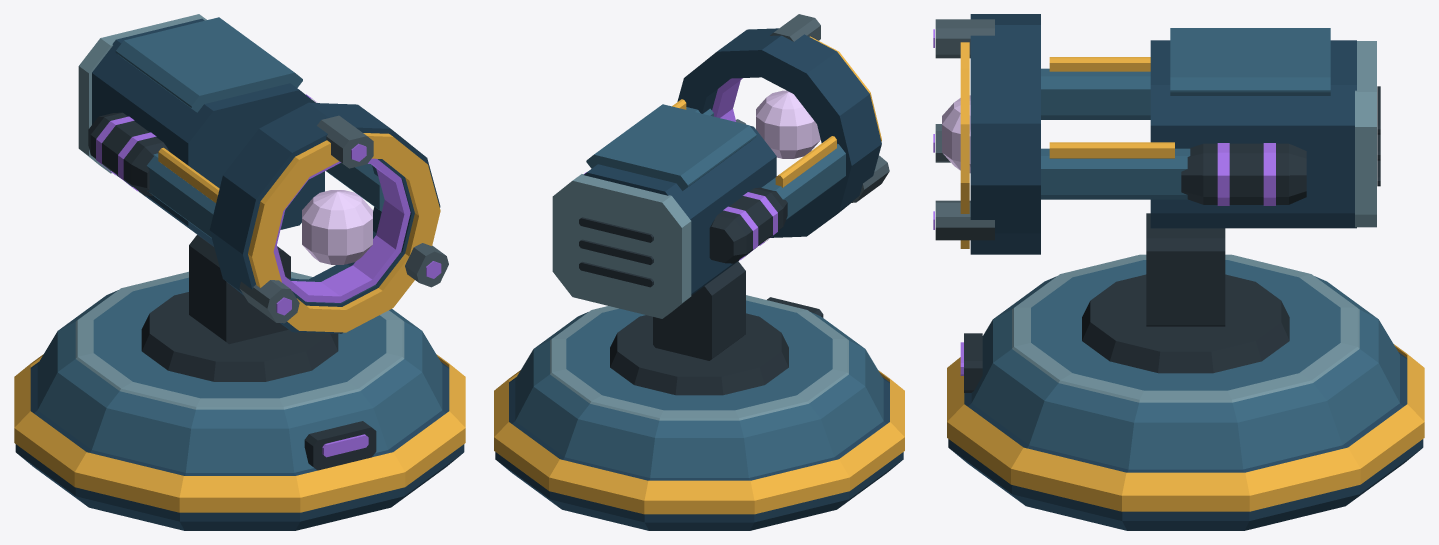
Rendered from PlasmaLevel1.obj.
3 renders of one model, left to right at view 1: azimuth 30°, elevation 25°; view 2: azimuth 150°, elevation 25°; view 3: azimuth 270°, elevation 25°, orthographic. The views are drawn at different scales.
Visible parts, largest first — view 1: UpperPlinth, GoldBelt, Chamber, LaunchRingArmor, LaunchRingGoldFace, ChamberTop, Foundation, Turntable, TopRim, InnerChargeCoil, Support, ChargedOrb (+10 smaller); view 2: UpperPlinth, GoldBelt, LaunchRingArmor, RearCap, Turntable, Foundation, ChamberTop, Chamber, TopRim, Support, Capacitor-1, ChargedOrb (+8 smaller); view 3: UpperPlinth, GoldBelt, Chamber, LaunchRingArmor, Turntable, ChamberTop, Foundation, TopRim, Support, EmitterArm1, Capacitor1, EmitterArm-1 (+10 smaller).
Boxes of the visible parts, bbox=[...] form: UpperPlinth: bbox=[37, 277, 442, 472]; GoldBelt: bbox=[14, 354, 465, 512]; Chamber: bbox=[92, 18, 324, 246]; LaunchRingArmor: bbox=[209, 102, 440, 333]; LaunchRingGoldFace: bbox=[248, 133, 440, 332]; ChamberTop: bbox=[115, 17, 302, 112]; Foundation: bbox=[15, 362, 464, 530]; Turntable: bbox=[141, 292, 338, 381]; TopRim: bbox=[75, 271, 404, 409]; InnerChargeCoil: bbox=[273, 158, 410, 302]; Support: bbox=[189, 234, 290, 344]; ChargedOrb: bbox=[302, 190, 372, 264]; UpperPlinth: bbox=[515, 300, 883, 477]; GoldBelt: bbox=[494, 370, 904, 514]; LaunchRingArmor: bbox=[677, 28, 881, 237]; RearCap: bbox=[552, 174, 691, 318]; Turntable: bbox=[610, 313, 788, 395]; Foundation: bbox=[495, 377, 903, 530]; ChamberTop: bbox=[586, 104, 756, 190]; Chamber: bbox=[584, 126, 776, 295]; TopRim: bbox=[550, 295, 848, 420]; Support: bbox=[653, 261, 745, 360]; Capacitor-1: bbox=[709, 187, 787, 263]; ChargedOrb: bbox=[756, 90, 820, 158]; UpperPlinth: bbox=[971, 260, 1399, 469]; GoldBelt: bbox=[947, 344, 1424, 511]; Chamber: bbox=[1150, 40, 1356, 228]; LaunchRingArmor: bbox=[970, 14, 1040, 254]; Turntable: bbox=[1082, 274, 1289, 373]; ChamberTop: bbox=[1170, 28, 1330, 95]; Foundation: bbox=[948, 352, 1423, 530]; TopRim: bbox=[1012, 254, 1359, 402]; Support: bbox=[1146, 213, 1225, 326]; EmitterArm1: bbox=[1041, 148, 1190, 199]; Capacitor1: bbox=[1181, 143, 1306, 204]; EmitterArm-1: bbox=[1041, 68, 1150, 119].
Size of the model in its own units: 2.18 by 2.09 by 2.24.
